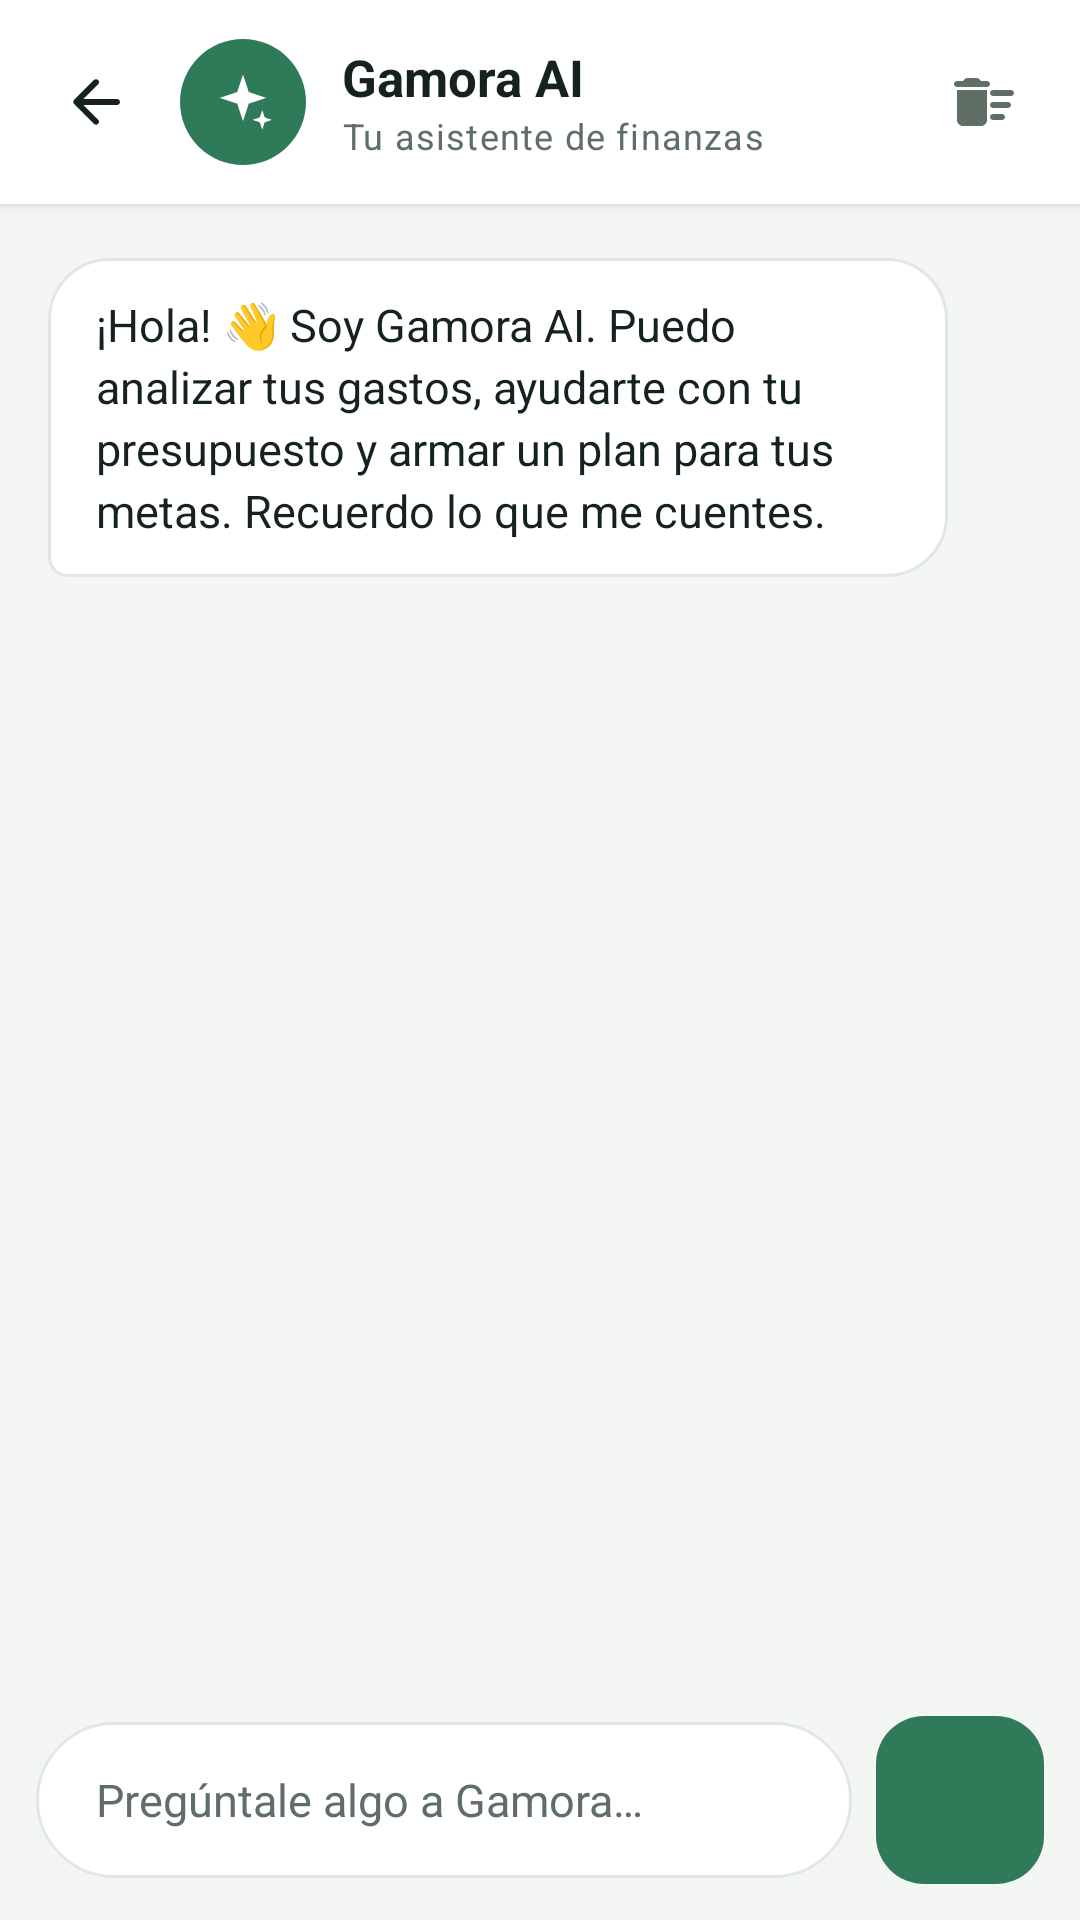

Icon click points for this 1080px x 1920px phone screenshot, format point (x, y):
Borrar conversación: point (984, 102)
Regresar: point (96, 102)
sparkle: point (245, 102)
